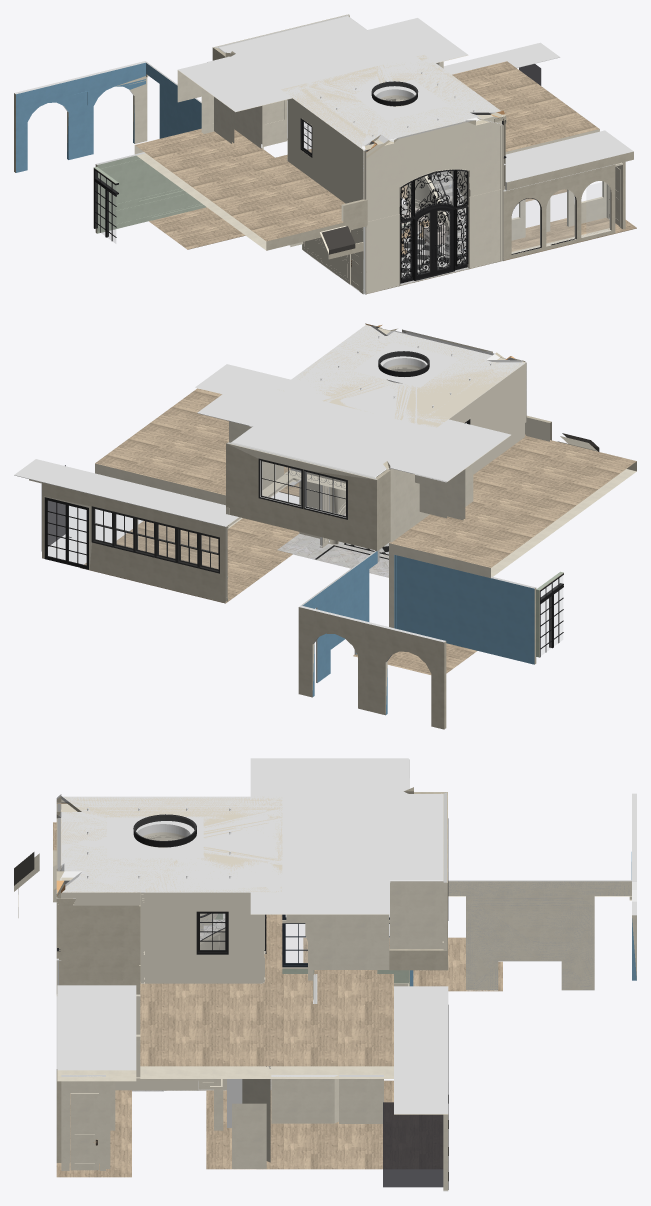
File: entry-46ebf8276339.glb
3 views of the same model, one above another, from view 1: azimuth 30°, elevation 25°; view 2: azimuth 150°, elevation 25°; view 3: azimuth 270°, elevation 25° (orthographic). The views are drawn at different scales.
Parts seen in each view (by area): view 1: entry-look-2575515a05775d9e, entry-look-9d91b47435c6fb33, entry-9d91b47435c6fb33, entry-4edf3a9420c06709, entry-look-969b861f9850351e, entry-e8793759323e04f0, entry-9ca48b730e5de4b2, entry-look-b19b106fc304963c, entry-746250f96522f643, entry-look-dbd60ee5c3733ed6, entry-look-c9e78b9ec1bb39cd, entry-785988ccf932ddd5 (+34 smaller); view 2: entry-look-2575515a05775d9e, entry-look-9d91b47435c6fb33, entry-look-b19b106fc304963c, entry-9d91b47435c6fb33, entry-look-969b861f9850351e, entry-look-245f595ae2832e16, entry-look-3b0077416469e01b, entry-look-bfb9fa537cd11d1d, entry-e8793759323e04f0, entry-look-9a0e9ee9b2a451d7, entry-746250f96522f643, entry-look-3e6709f91b43c3bf (+19 smaller); view 3: entry-look-2575515a05775d9e, entry-look-9d91b47435c6fb33, entry-9d91b47435c6fb33, entry-look-3e6709f91b43c3bf, entry-look-3b0077416469e01b, entry-c51ecd664a3b22a3, entry-look-dbd60ee5c3733ed6, entry-e8793759323e04f0, entry-look-9a0e9ee9b2a451d7, entry-62353aa10fc57f23, entry-look-cbd4bf73d9724a66, entry-look-55ff1dfd7b659ec1 (+23 smaller).
Boxes of the visible parts, box(x1,y1,x2,y2) form: entry-look-2575515a05775d9e: box(134, 61, 599, 250); entry-look-9d91b47435c6fb33: box(178, 16, 468, 112); entry-9d91b47435c6fb33: box(282, 54, 500, 149); entry-4edf3a9420c06709: box(365, 120, 503, 221); entry-look-969b861f9850351e: box(14, 61, 147, 172); entry-e8793759323e04f0: box(281, 55, 499, 149); entry-9ca48b730e5de4b2: box(365, 189, 503, 293); entry-look-b19b106fc304963c: box(95, 152, 202, 233); entry-746250f96522f643: box(287, 98, 361, 203); entry-look-dbd60ee5c3733ed6: box(505, 130, 633, 190); entry-look-c9e78b9ec1bb39cd: box(503, 164, 615, 260); entry-785988ccf932ddd5: box(366, 118, 503, 220); entry-look-2575515a05775d9e: box(95, 388, 636, 578); entry-look-9d91b47435c6fb33: box(197, 371, 510, 481); entry-look-b19b106fc304963c: box(397, 555, 536, 664); entry-9d91b47435c6fb33: box(277, 325, 525, 428); entry-look-969b861f9850351e: box(298, 605, 446, 729); entry-look-245f595ae2832e16: box(226, 442, 377, 551); entry-look-3b0077416469e01b: box(80, 518, 476, 674); entry-look-bfb9fa537cd11d1d: box(42, 482, 227, 602); entry-e8793759323e04f0: box(279, 325, 525, 427); entry-look-9a0e9ee9b2a451d7: box(14, 459, 238, 526); entry-746250f96522f643: box(449, 364, 524, 474); entry-look-3e6709f91b43c3bf: box(302, 551, 377, 682); entry-look-2575515a05775d9e: box(53, 822, 393, 1078); entry-look-9d91b47435c6fb33: box(250, 758, 442, 914); entry-9d91b47435c6fb33: box(61, 796, 282, 892); entry-look-3e6709f91b43c3bf: box(448, 880, 631, 989); entry-look-3b0077416469e01b: box(206, 937, 502, 1169); entry-c51ecd664a3b22a3: box(145, 892, 264, 983); entry-look-dbd60ee5c3733ed6: box(57, 985, 136, 1081); entry-e8793759323e04f0: box(58, 794, 282, 892); entry-look-9a0e9ee9b2a451d7: box(394, 986, 448, 1114); entry-62353aa10fc57f23: box(71, 892, 140, 996); entry-look-cbd4bf73d9724a66: box(383, 1102, 443, 1187); entry-look-55ff1dfd7b659ec1: box(448, 880, 631, 990).
Size of the model in its own units: 21.07 by 7.02 by 18.
65 materials, 12 textured.
